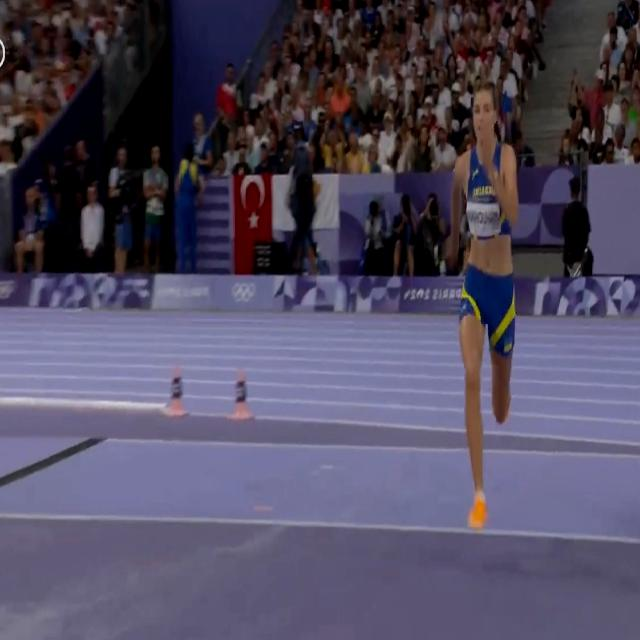run: (448, 86, 518, 532)
